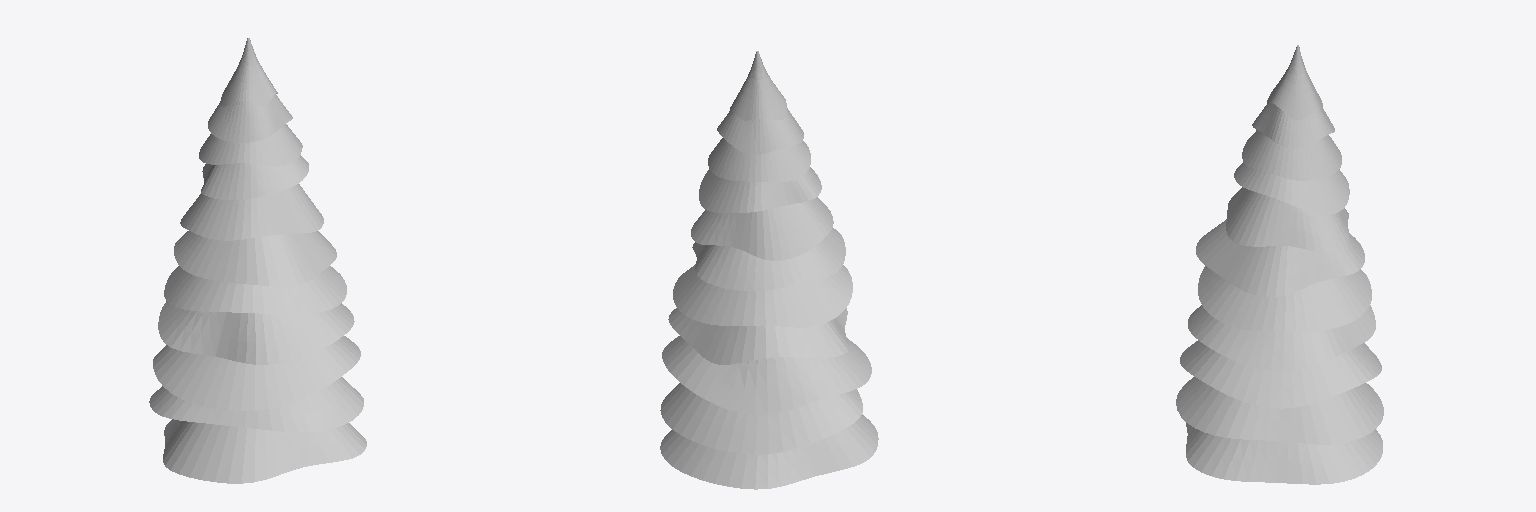
Rendered from brad.obj.
The picture shows the model from 3 angles: view 1: azimuth 30°, elevation 25°; view 2: azimuth 150°, elevation 25°; view 3: azimuth 270°, elevation 25°; orthographic projection.
Visible parts, largest first — view 1: 10447_Pine_Tree_v1_L3b; view 2: 10447_Pine_Tree_v1_L3b; view 3: 10447_Pine_Tree_v1_L3b.
Boxes of the visible parts, x1,y1,x2,y2 form: 10447_Pine_Tree_v1_L3b: [149, 38, 366, 483]; 10447_Pine_Tree_v1_L3b: [660, 51, 878, 489]; 10447_Pine_Tree_v1_L3b: [1176, 45, 1383, 484].
Bounding box in the file's own units: 0.5641 × 1.21 × 0.539.